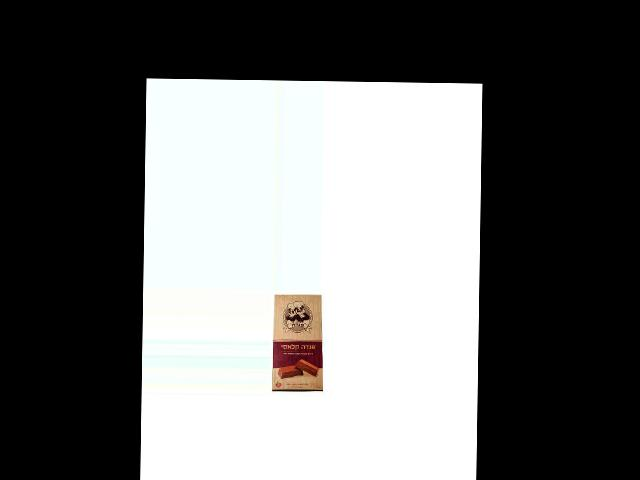chocolate: (273, 293, 325, 392)
